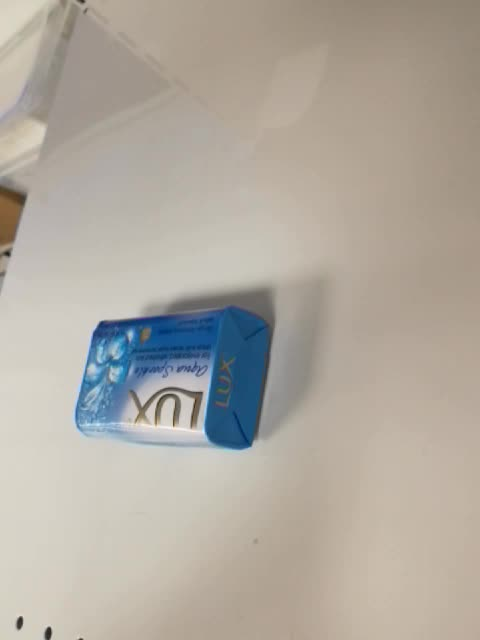soap: (73, 303, 274, 452)
